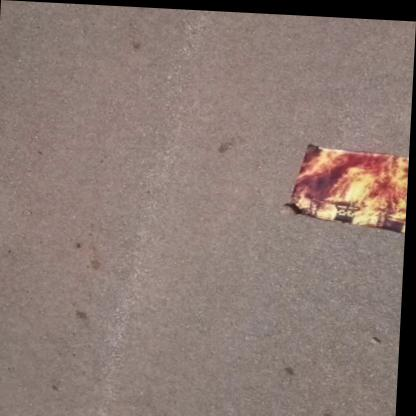fire-poster: (283, 138, 410, 231)
